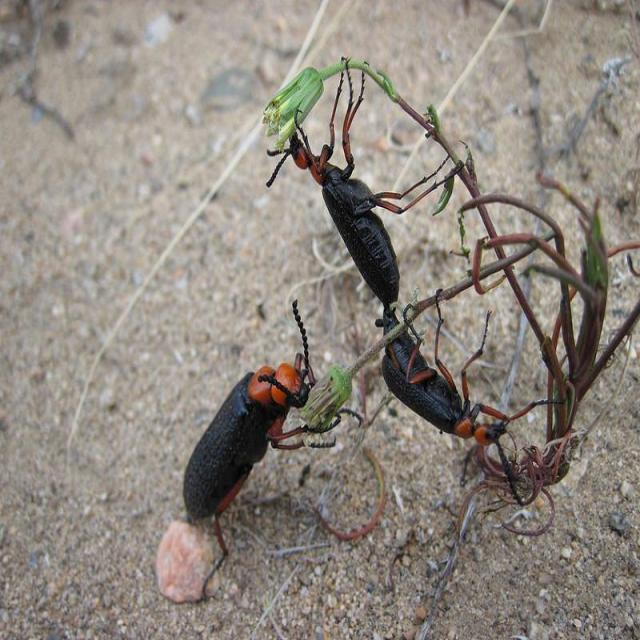BlisterBeetle-Adult-: (261, 54, 433, 312), (180, 294, 328, 530), (370, 308, 538, 464)
